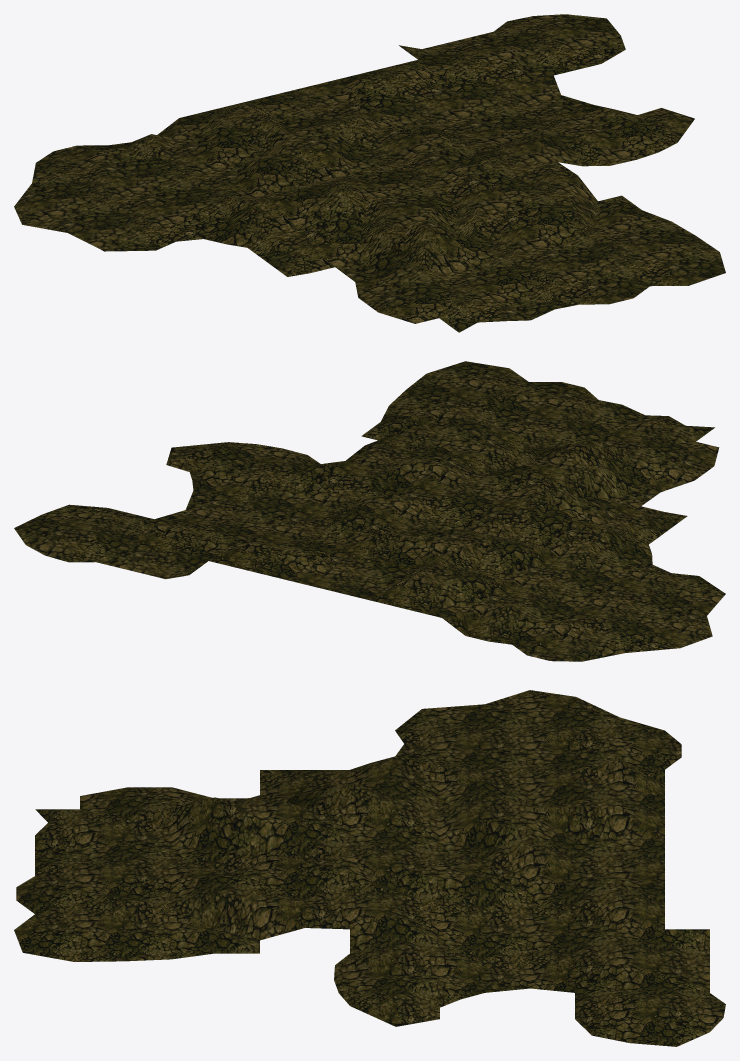
File: FORGE_HOT_AND_COLD_COALPILES_FORGE_COALPILE_COLD.fbx
The picture shows the model from 3 angles, top to bottom: view 1: azimuth 30°, elevation 25°; view 2: azimuth 150°, elevation 25°; view 3: azimuth 270°, elevation 25°; orthographic projection. The views are drawn at different scales.
Parts seen in each view (by area): view 1: FORGE_HOT_AND_COLD_COALPILES_FORGE_COALPILE_COLD; view 2: FORGE_HOT_AND_COLD_COALPILES_FORGE_COALPILE_COLD; view 3: FORGE_HOT_AND_COLD_COALPILES_FORGE_COALPILE_COLD.
Part boxes in pixels (<box>): FORGE_HOT_AND_COLD_COALPILES_FORGE_COALPILE_COLD: <box>14,14,725,332</box>; FORGE_HOT_AND_COLD_COALPILES_FORGE_COALPILE_COLD: <box>14,361,725,661</box>; FORGE_HOT_AND_COLD_COALPILES_FORGE_COALPILE_COLD: <box>14,690,725,1046</box>.
Size of the model in its own units: 150345 by 8945 by 126758.
Materials: 1 (1 with a texture image).
